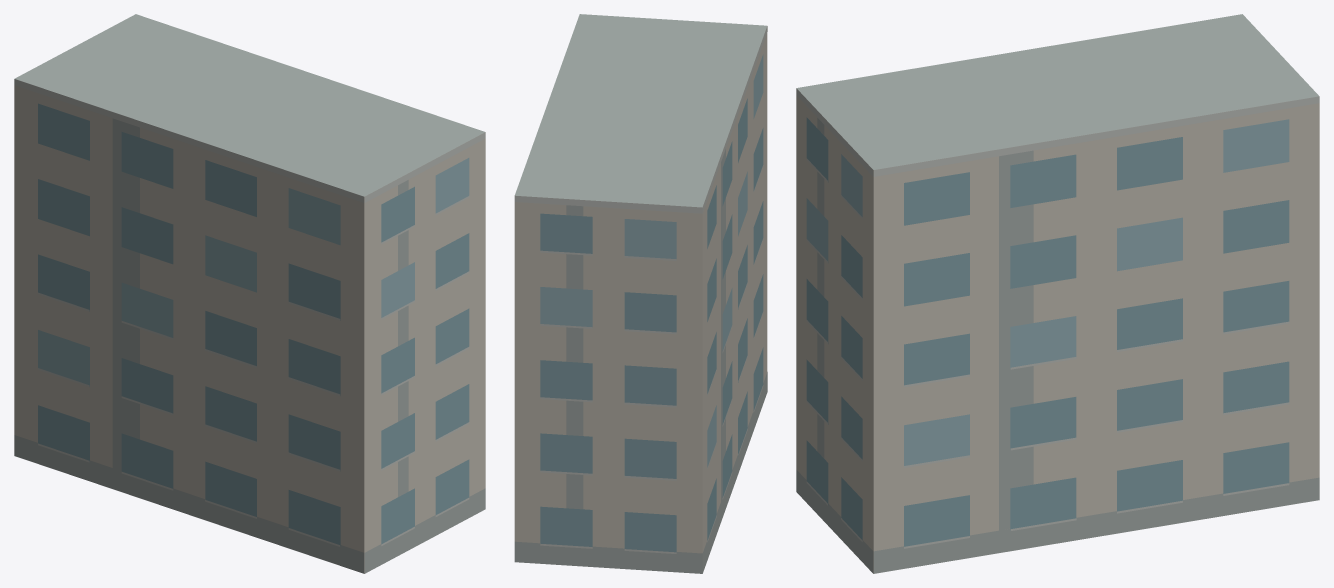
File: survey-upis-32889162.glb
3 renders of one model, left to right at view 1: azimuth 30°, elevation 25°; view 2: azimuth 150°, elevation 25°; view 3: azimuth 270°, elevation 25°, orthographic. The views are drawn at different scales.
Parts seen in each view (by area): view 1: survey-upis-32889162.tmp; view 2: survey-upis-32889162.tmp; view 3: survey-upis-32889162.tmp.
Part boxes in pixels (x1,y1,x2,y2): survey-upis-32889162.tmp: (14,14,485,573); survey-upis-32889162.tmp: (514,14,767,573); survey-upis-32889162.tmp: (796,14,1319,573).
Size of the model in its own units: 11.87 by 14.3 by 16.81.
